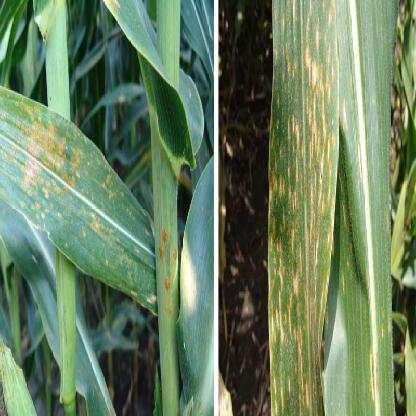Corn rust leaf: (0, 84, 154, 320)
